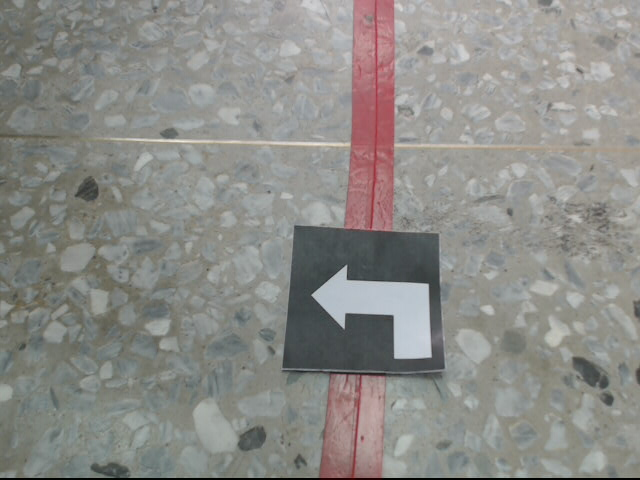left: (281, 221, 453, 376)
